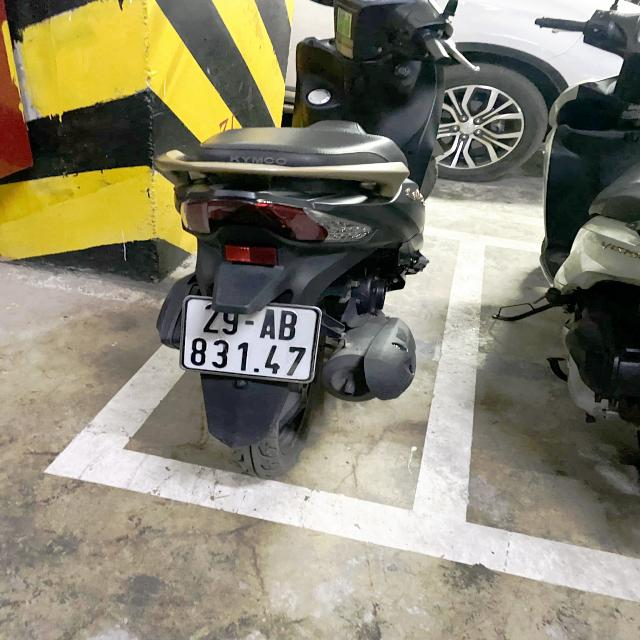license_plate: (172, 290, 330, 392)
